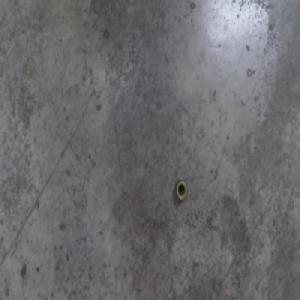Nut: (175, 179, 187, 203)
